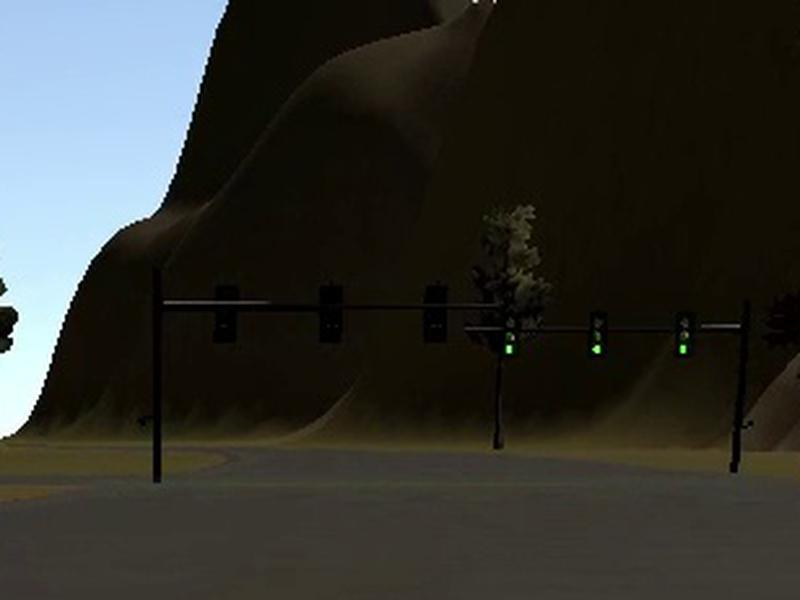Green: (500, 313, 520, 358), (589, 313, 608, 356), (675, 314, 694, 357)
